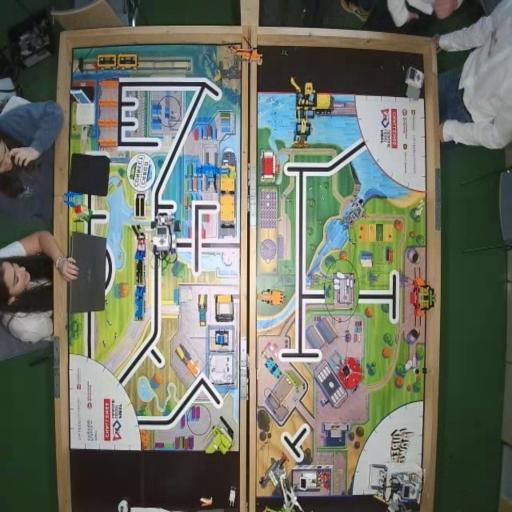lego_robot: (369, 462, 424, 512), (151, 211, 178, 264)
